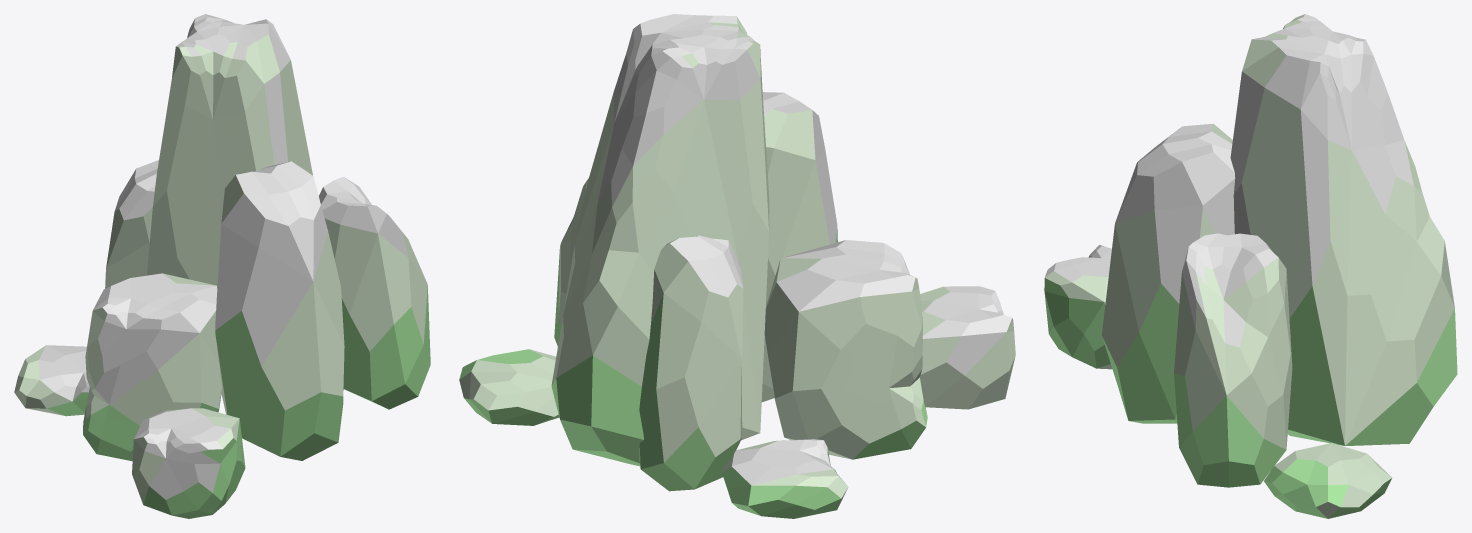
Rendered from piedra 2.fbx.
3 views of the same model, side by side, from view 1: azimuth 30°, elevation 25°; view 2: azimuth 150°, elevation 25°; view 3: azimuth 270°, elevation 25° (orthographic). The views are drawn at different scales.
Visible parts, largest first — view 1: rock_07; view 2: rock_07; view 3: rock_07.
Part boxes in pixels (x1=…): rock_07: x1=14, y1=14, x2=430, y2=518; rock_07: x1=459, y1=14, x2=1015, y2=518; rock_07: x1=1044, y1=14, x2=1457, y2=518.
Bounding box in the file's own units: 346 × 314 × 304.
